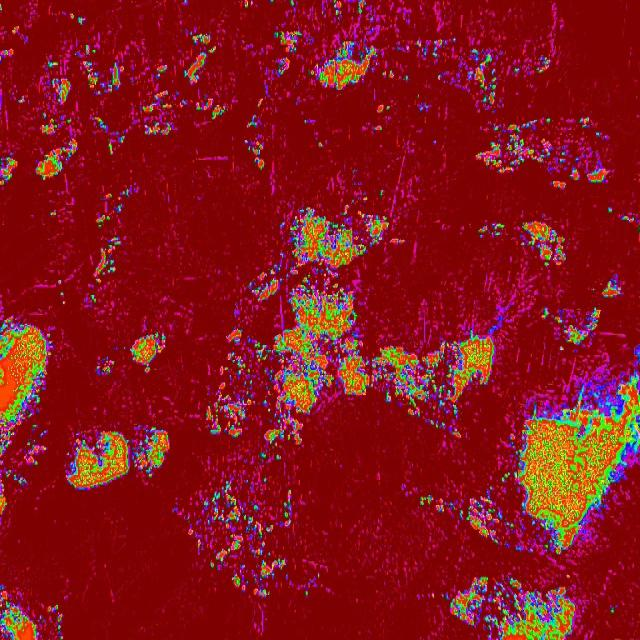fire: (206, 208, 495, 462), (513, 348, 640, 560), (175, 479, 294, 599), (476, 116, 613, 190), (0, 315, 50, 517), (440, 575, 578, 640), (416, 37, 506, 108), (65, 431, 132, 491), (186, 31, 226, 120), (309, 39, 376, 90), (461, 485, 512, 547), (0, 582, 45, 640), (518, 219, 568, 267), (140, 90, 187, 138), (132, 423, 170, 481), (92, 182, 136, 230), (36, 136, 80, 182), (128, 331, 171, 374), (554, 306, 602, 344), (270, 28, 305, 78), (93, 235, 126, 285), (84, 57, 120, 99), (92, 115, 125, 154), (345, 168, 371, 206), (39, 110, 74, 134), (420, 492, 456, 513), (47, 602, 66, 640), (244, 138, 266, 170), (600, 274, 626, 300), (0, 152, 20, 184), (50, 76, 72, 102), (302, 570, 321, 598), (94, 355, 115, 377), (380, 68, 410, 82), (332, 0, 348, 24), (535, 54, 553, 75), (74, 40, 98, 55), (153, 61, 170, 81), (12, 25, 29, 45), (57, 281, 69, 308), (244, 113, 260, 131), (620, 212, 640, 226), (254, 92, 268, 110), (70, 12, 88, 26), (0, 46, 16, 60), (496, 221, 506, 241), (376, 104, 394, 115), (356, 0, 367, 18), (502, 470, 512, 486), (300, 117, 316, 127), (46, 60, 62, 70), (16, 95, 30, 106), (606, 204, 616, 218), (513, 64, 521, 80), (89, 292, 98, 306), (374, 124, 386, 134), (378, 186, 388, 198), (608, 605, 618, 616), (540, 308, 551, 318), (49, 209, 60, 219), (243, 0, 253, 11), (430, 136, 440, 146), (288, 0, 300, 8), (316, 139, 324, 150), (181, 0, 190, 5), (0, 6, 6, 13), (268, 0, 276, 5)
